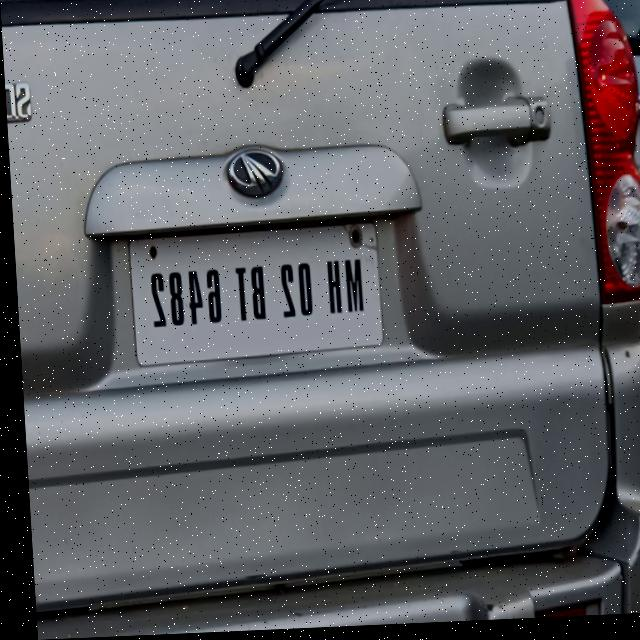plate: (124, 222, 381, 368)
